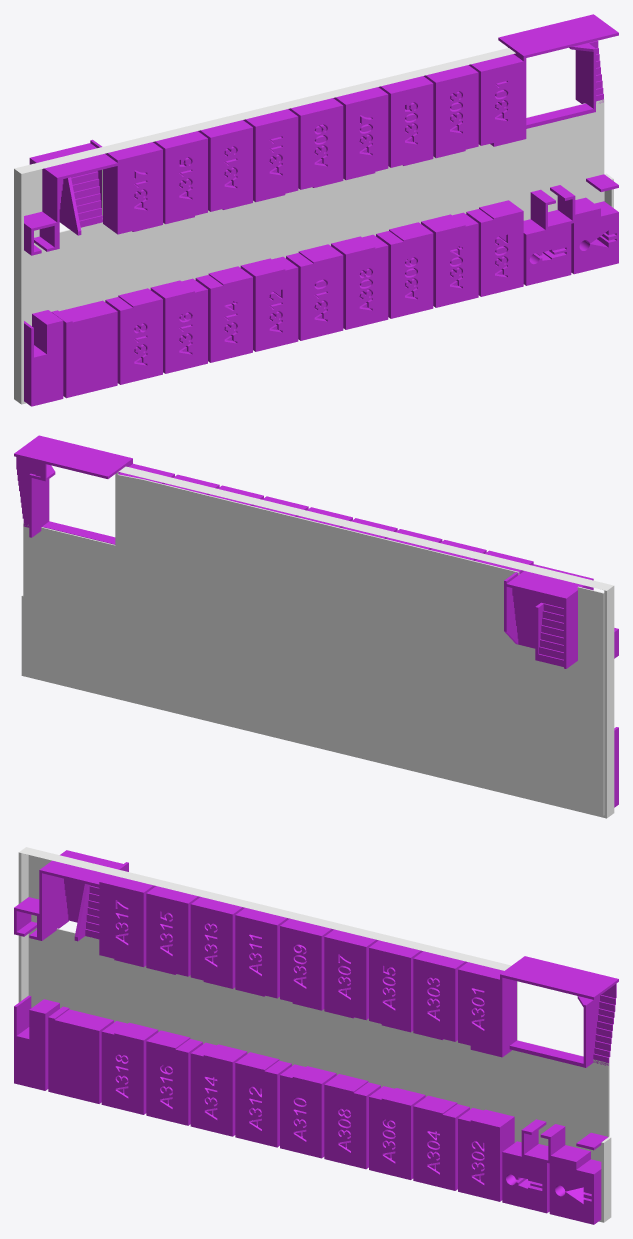
File: Edificio A - piso 3.obj
The picture shows the model from 3 angles, top to bottom: view 1: azimuth 30°, elevation 25°; view 2: azimuth 150°, elevation 25°; view 3: azimuth 330°, elevation 25°; orthographic projection.
Parts seen in each view (by area): view 1: Cuerpo48, Cuerpo47, Cuerpo6, Cuerpo18, Cuerpo23, Cuerpo7, Cuerpo10, Cuerpo12, Cuerpo11, Cuerpo55, Cuerpo22, Cuerpo1 (+18 smaller); view 2: Cuerpo48, Cuerpo47, Cuerpo6, Cuerpo25, Cuerpo45; view 3: Cuerpo48, Cuerpo47, Cuerpo6, Cuerpo25, Cuerpo18, Cuerpo10, Cuerpo55, Cuerpo23, Cuerpo7, Cuerpo5, Cuerpo22, Cuerpo12 (+18 smaller).
Part boxes in pixels (bbox=[...]): Cuerpo48: bbox=[24, 47, 604, 325]; Cuerpo47: bbox=[14, 48, 613, 404]; Cuerpo6: bbox=[29, 139, 120, 249]; Cuerpo18: bbox=[51, 300, 117, 398]; Cuerpo23: bbox=[240, 256, 298, 351]; Cuerpo7: bbox=[105, 288, 162, 384]; Cuerpo10: bbox=[466, 200, 523, 296]; Cuerpo12: bbox=[286, 244, 343, 340]; Cuerpo11: bbox=[376, 222, 433, 318]; Cuerpo55: bbox=[195, 266, 252, 362]; Cuerpo22: bbox=[421, 212, 478, 307]; Cuerpo1: bbox=[331, 234, 388, 329]; Cuerpo48: bbox=[23, 472, 604, 815]; Cuerpo47: bbox=[21, 466, 614, 818]; Cuerpo6: bbox=[504, 561, 593, 668]; Cuerpo25: bbox=[14, 435, 132, 544]; Cuerpo45: bbox=[16, 457, 55, 537]; Cuerpo48: bbox=[28, 855, 609, 1161]; Cuerpo47: bbox=[18, 847, 611, 1222]; Cuerpo6: bbox=[39, 850, 128, 955]; Cuerpo25: bbox=[470, 956, 618, 1067]; Cuerpo18: bbox=[48, 1006, 113, 1103]; Cuerpo10: bbox=[458, 1108, 514, 1201]; Cuerpo55: bbox=[190, 1042, 247, 1136]; Cuerpo23: bbox=[235, 1052, 291, 1147]; Cuerpo7: bbox=[101, 1021, 158, 1114]; Cuerpo5: bbox=[146, 1030, 202, 1125]; Cuerpo22: bbox=[413, 1095, 469, 1190]; Cuerpo12: bbox=[280, 1064, 336, 1158].
Size of the model in its own units: 46 by 17.3 by 3.7.
